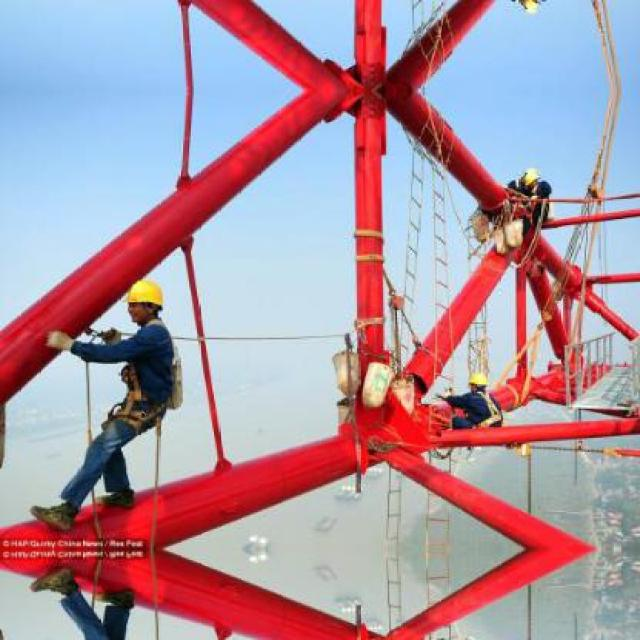helmet: (128, 276, 164, 327), (466, 368, 492, 394), (522, 162, 543, 191), (522, 0, 544, 20)
